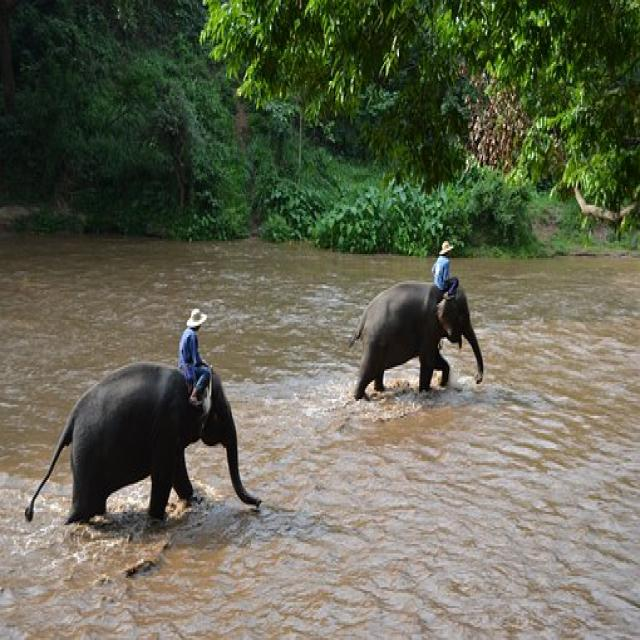Elephant: (47, 341, 271, 556), (340, 262, 492, 419)
